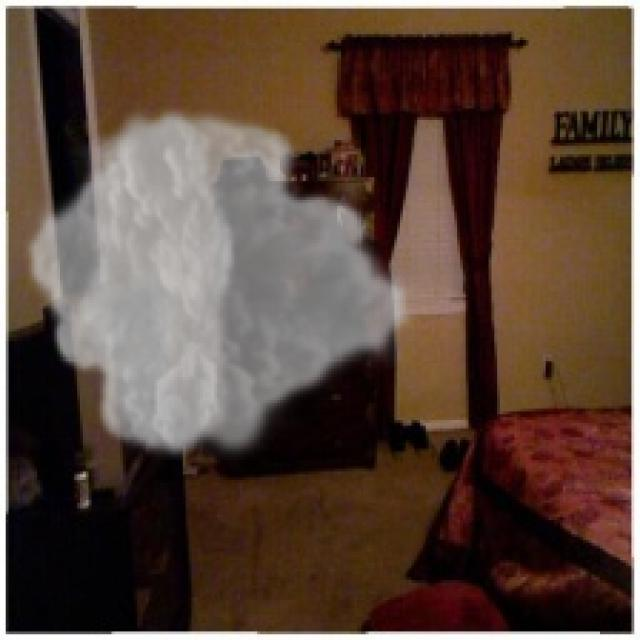smoke: (23, 100, 417, 466)
